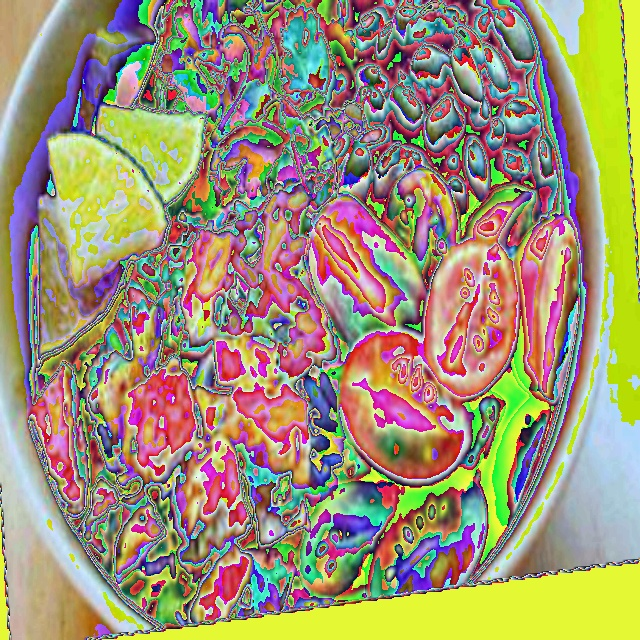background: (29, 0, 582, 629)
